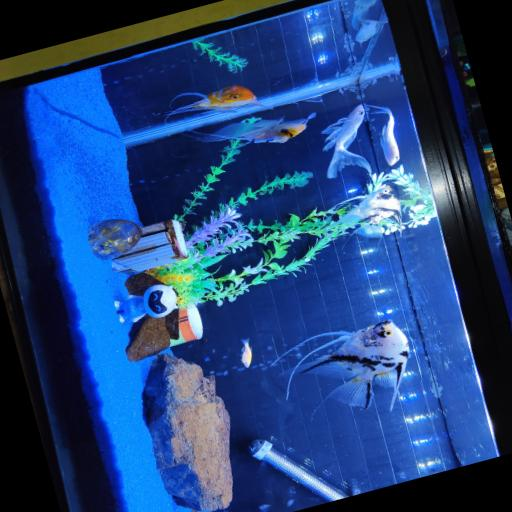Fish: (272, 321, 408, 410), (191, 113, 315, 146), (155, 85, 261, 119), (322, 105, 371, 178), (336, 186, 400, 238), (366, 105, 399, 166), (351, 0, 386, 43), (351, 0, 377, 28), (355, 20, 386, 43), (240, 339, 251, 368)
